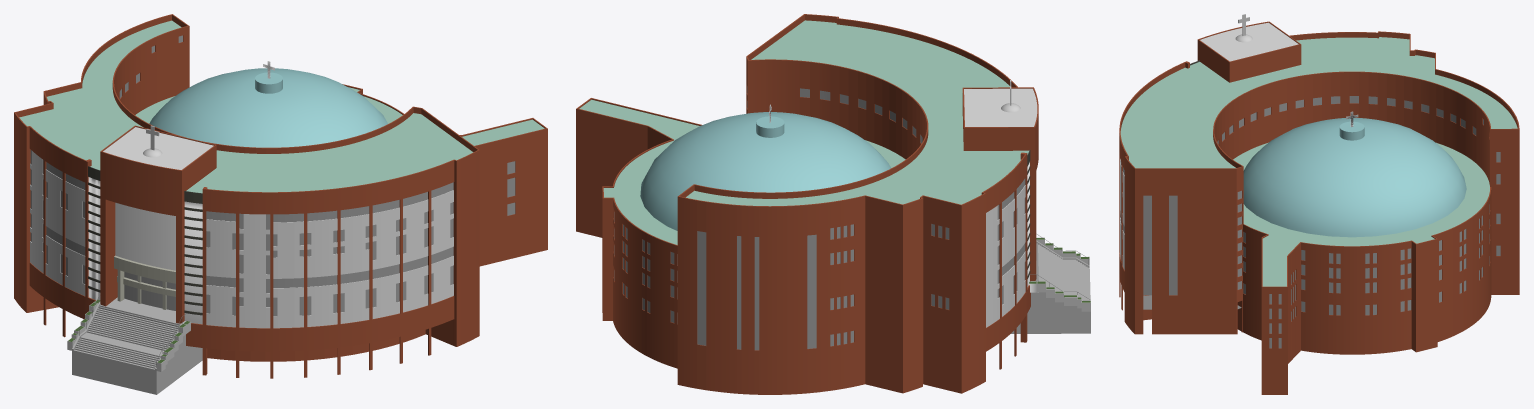
File: daeseongjeon.glb
3 views of the same model, side by side, from view 1: azimuth 30°, elevation 25°; view 2: azimuth 150°, elevation 25°; view 3: azimuth 270°, elevation 25° (orthographic). The views are drawn at different scales.
Parts seen in each view (by area): view 1: daeseongjeon; view 2: daeseongjeon; view 3: daeseongjeon.
Part boxes in pixels (x1=…): daeseongjeon: x1=14, y1=14, x2=547, y2=394; daeseongjeon: x1=576, y1=14, x2=1090, y2=394; daeseongjeon: x1=1119, y1=14, x2=1519, y2=394.
Bounding box in the file's own units: 0.00882 × 0.00397 × 0.00705.
